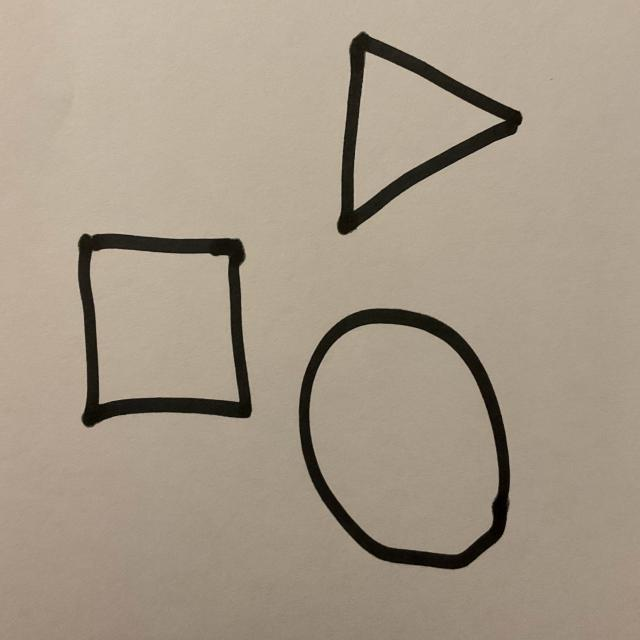Dreieck: (338, 34, 523, 237)
Kreis: (297, 309, 511, 572)
Quadrat: (77, 234, 253, 429)
